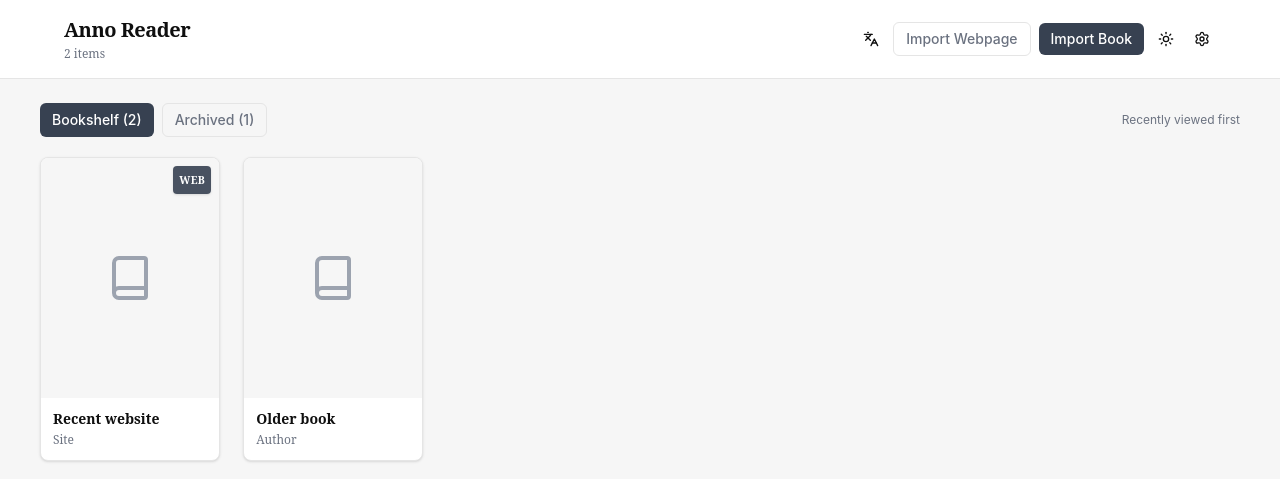
Scenario: bookshelf recent order and archive › archives a website without deleting data and restores it with the original viewing time
Right-click the button titled "Recent website".
right_click(130, 309)  # box [40, 157, 220, 460]
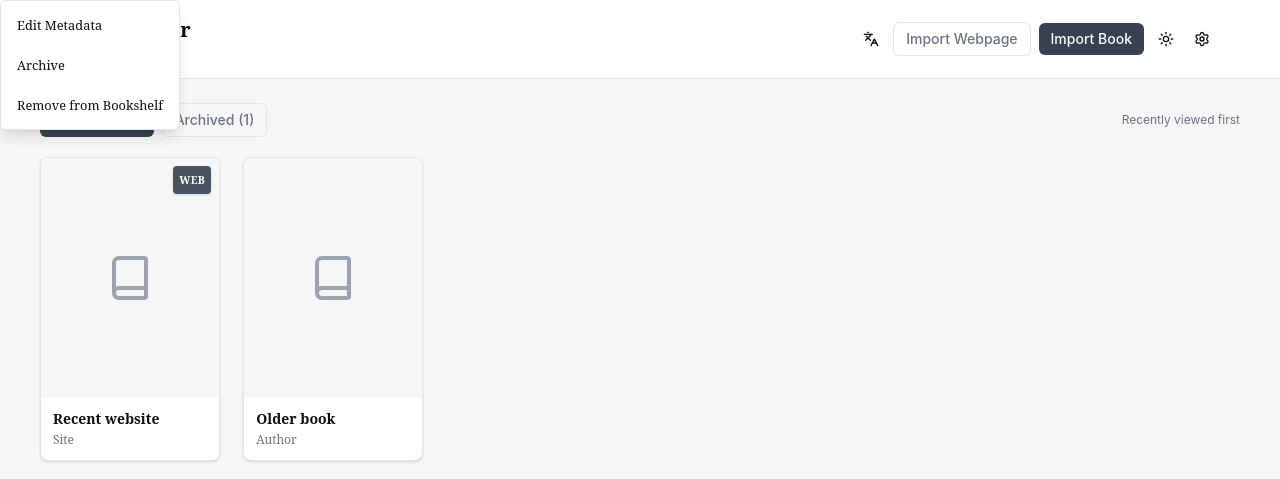
Click the button "Archive".
click(90, 65)  # box [5, 45, 175, 85]
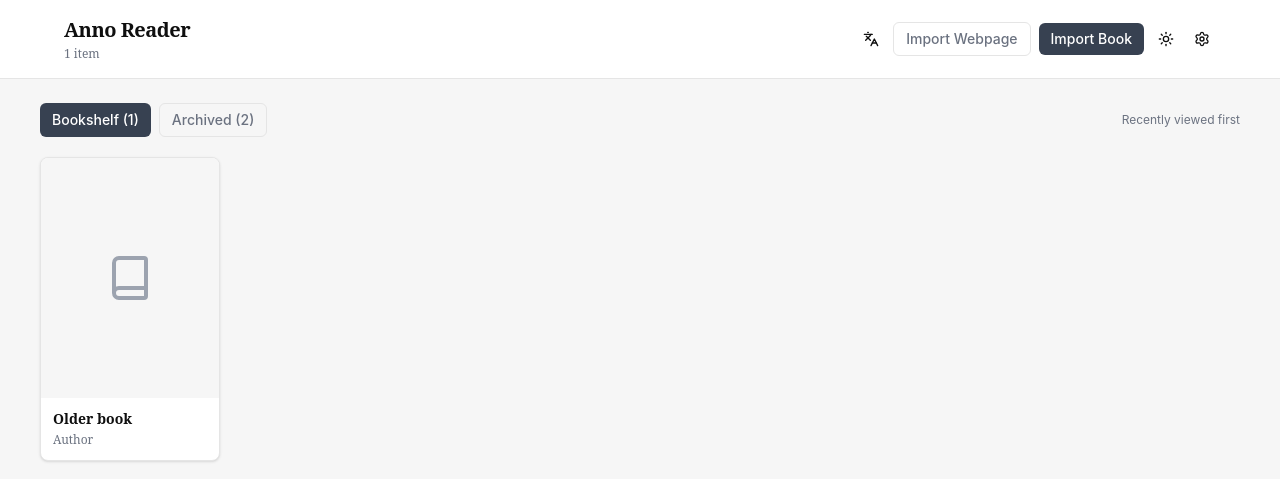
Click the button "Archived (2)".
click(213, 120)  # box [159, 103, 267, 137]
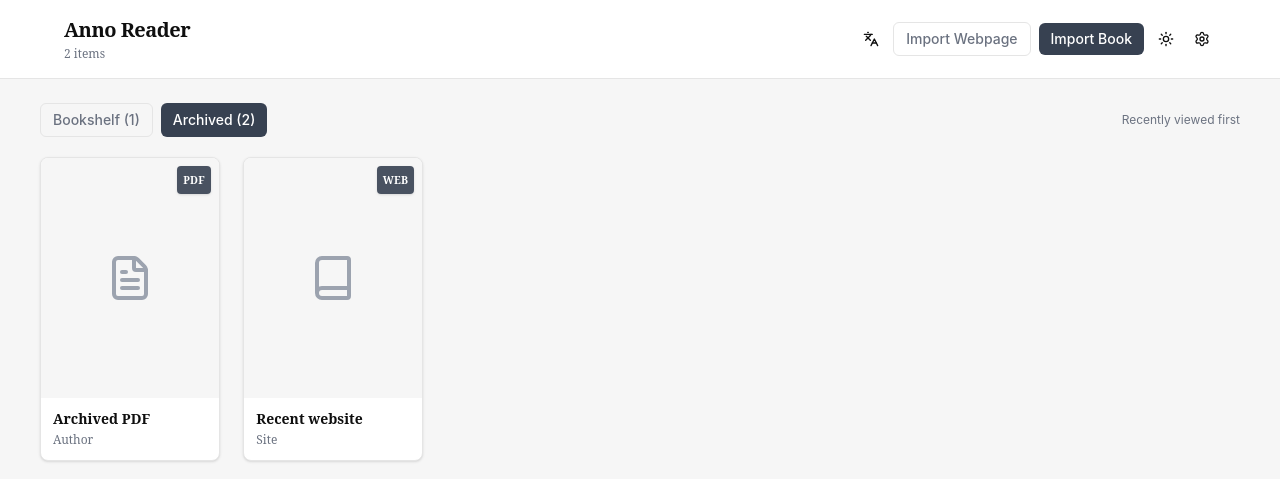
Right-click the button titled "Recent website".
right_click(333, 309)  # box [243, 157, 423, 460]
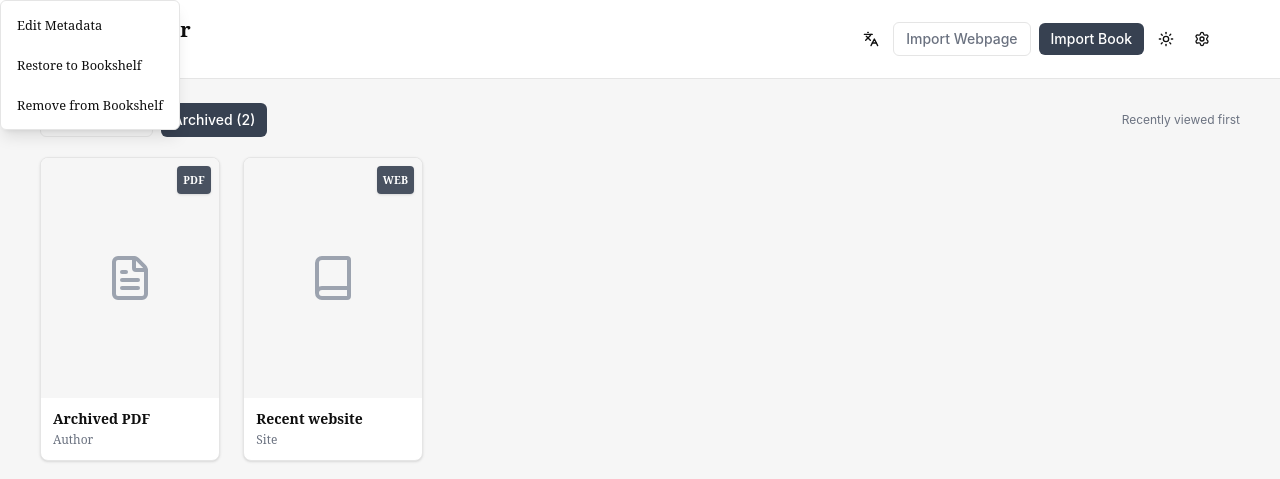
Click the button "Restore to Bookshelf".
click(90, 65)  # box [5, 45, 175, 85]
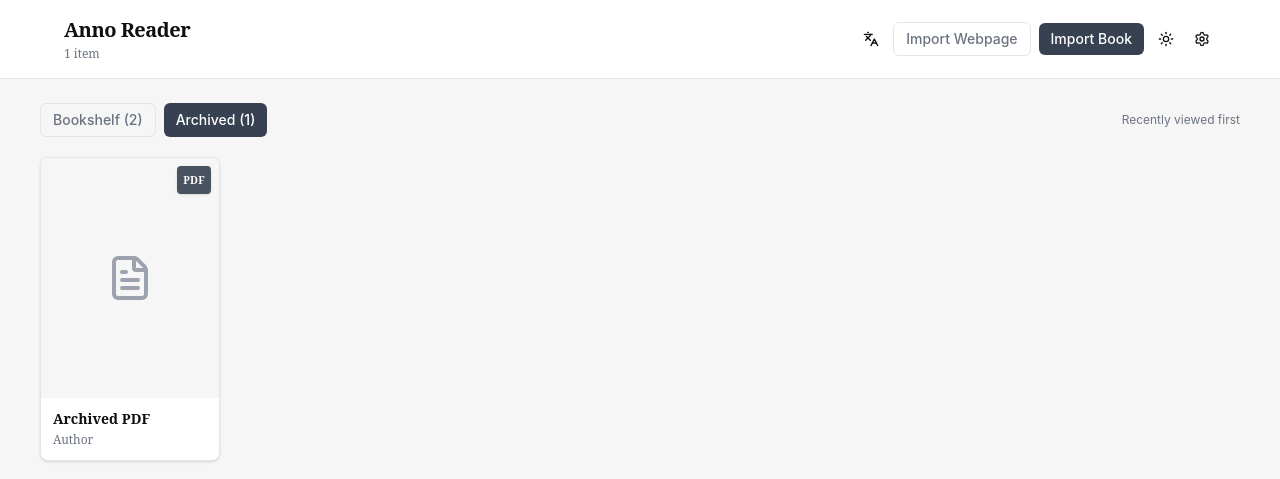
Click the button "Bookshelf (2)".
click(98, 120)  # box [40, 103, 156, 137]
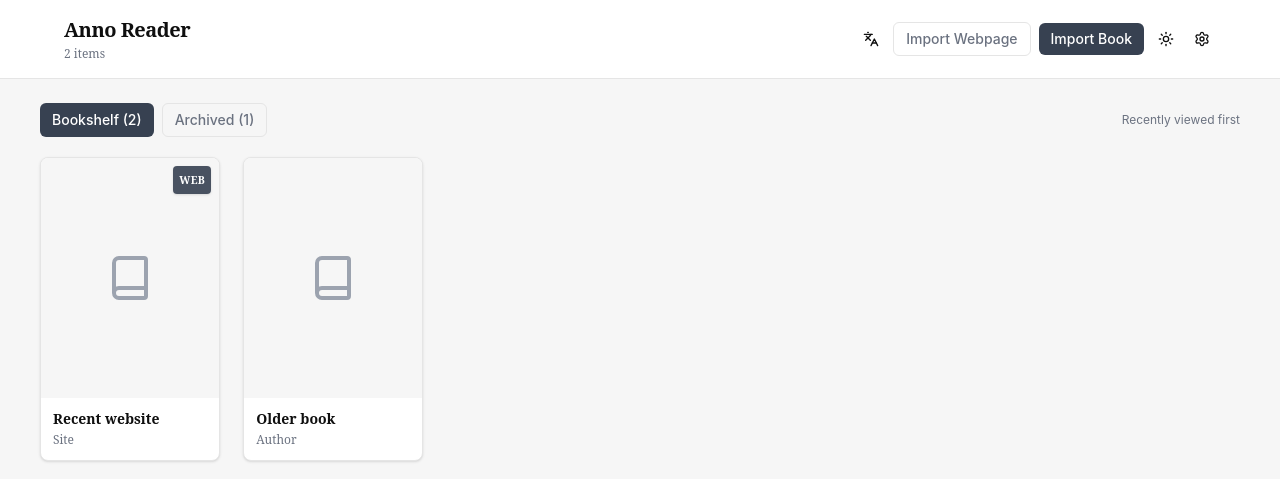
Expected: the heading titled "Recent website" is shown, [53, 409, 159, 428]
